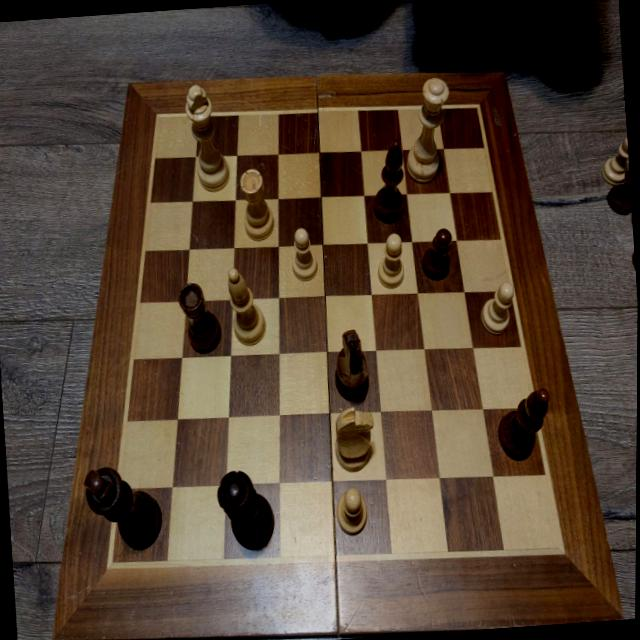black_bishop: (495, 386, 552, 462), (368, 140, 408, 223)
black_king: (81, 459, 163, 554)
black_knight: (330, 328, 370, 402)
black_pawn: (418, 227, 456, 282)
black_queen: (216, 468, 278, 551)
black_rook: (176, 280, 223, 354)
white_bishop: (225, 266, 268, 346)
white_king: (184, 83, 231, 190)
white_knight: (331, 405, 377, 471)
white_pawn: (477, 280, 518, 336), (334, 484, 370, 536), (287, 222, 318, 282), (375, 232, 406, 288)
white_queen: (399, 75, 455, 183)
white_rook: (238, 168, 275, 239)
